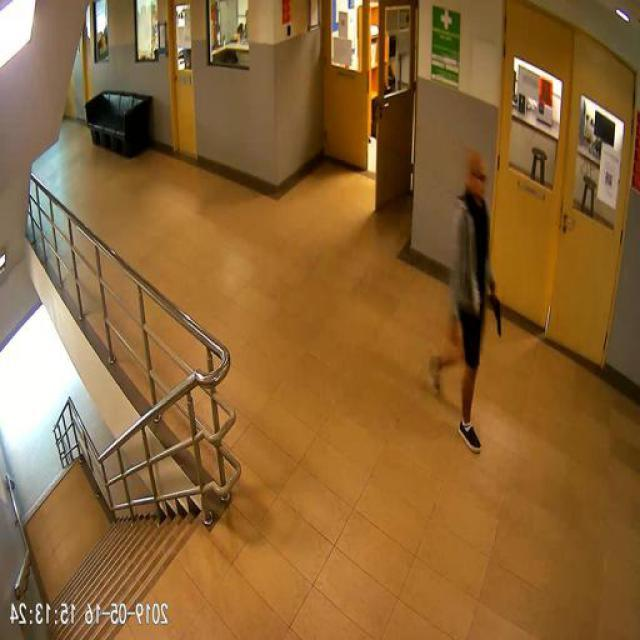weapon: (488, 292, 506, 338)
